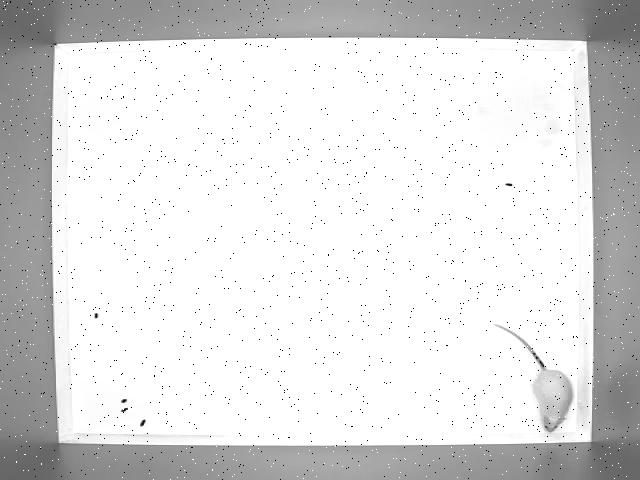Tikus: (494, 324, 574, 434)
